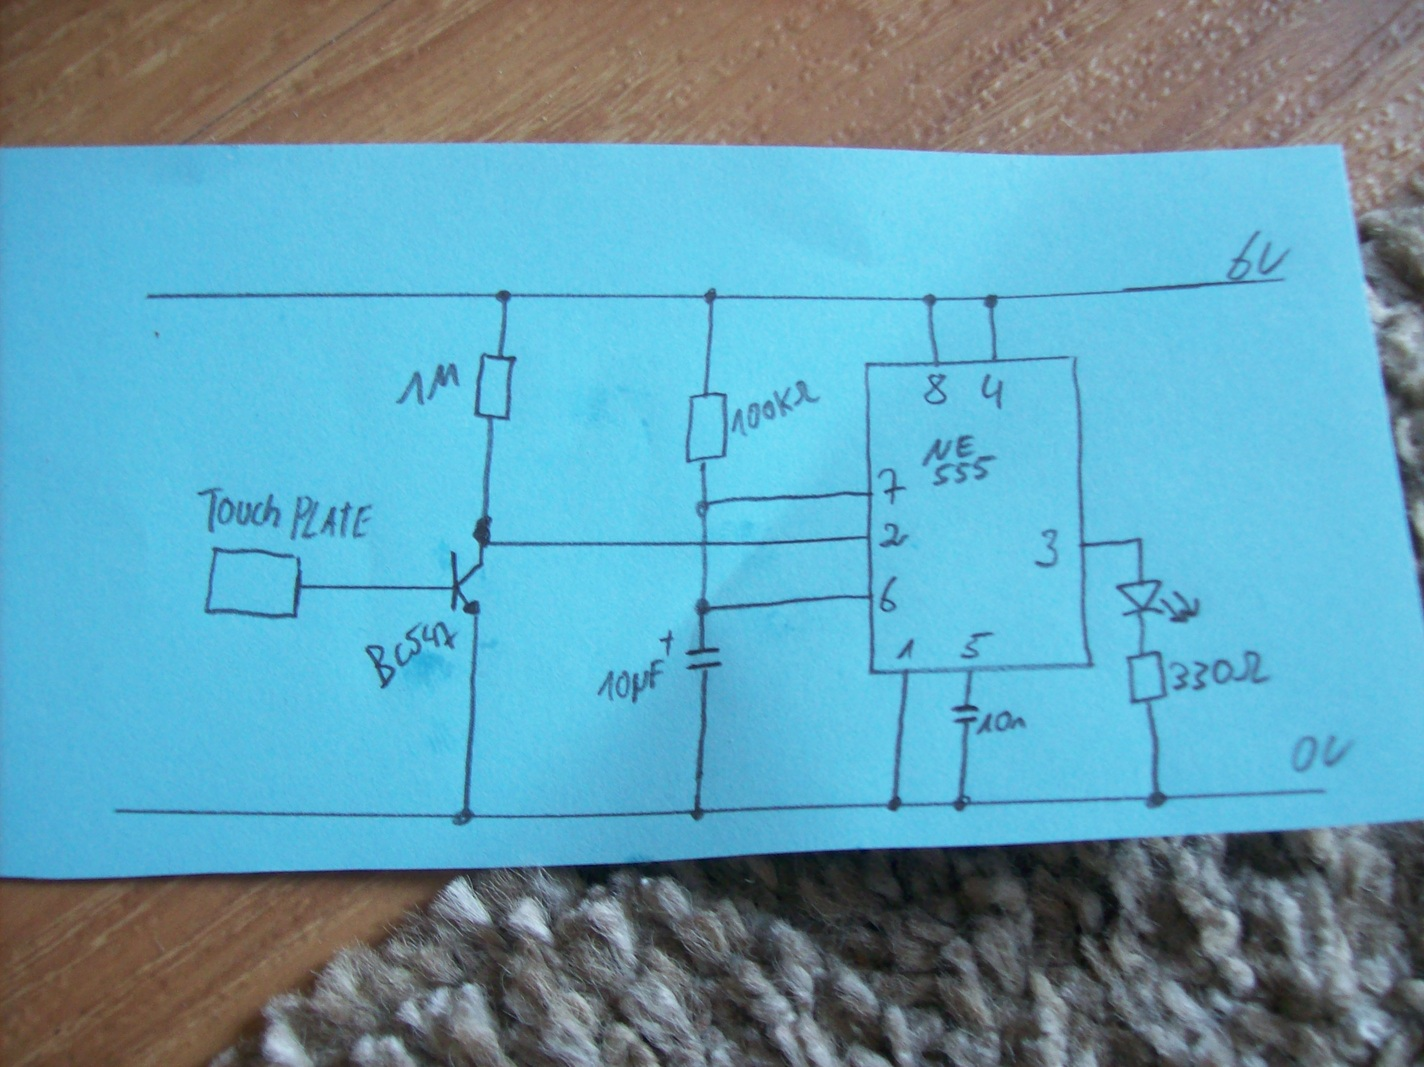capacitor.polarized: (658, 628, 725, 674)
capacitor.unpolarized: (951, 702, 981, 726)
crossover: (695, 533, 716, 551)
diode.light_emitting: (1113, 576, 1203, 627)
integrated_cricuit.ne555: (858, 349, 1102, 680)
junction: (471, 514, 497, 550), (1142, 787, 1170, 811), (450, 807, 476, 828), (951, 794, 974, 815), (694, 497, 714, 520), (692, 596, 713, 618), (702, 286, 722, 307), (920, 291, 940, 310), (494, 287, 513, 306), (885, 795, 904, 813), (687, 805, 706, 823), (981, 293, 1000, 310), (1133, 533, 1147, 547)
resistor: (682, 387, 730, 468), (471, 351, 519, 424), (1124, 647, 1169, 707)
terminal: (203, 544, 305, 622), (1307, 778, 1333, 802), (1273, 272, 1293, 288), (141, 289, 162, 304), (110, 805, 125, 815)
text: (195, 485, 374, 542), (363, 619, 457, 690), (730, 379, 823, 438), (1169, 648, 1272, 692), (919, 432, 998, 488), (1223, 226, 1293, 281), (595, 657, 666, 706), (395, 361, 463, 407), (1290, 733, 1355, 774), (1029, 528, 1063, 570), (976, 709, 1029, 736), (875, 464, 909, 505), (959, 630, 995, 661), (979, 371, 1006, 411), (877, 573, 902, 614), (921, 371, 949, 406), (877, 521, 910, 550), (896, 637, 918, 664)
transistor: (448, 550, 486, 619)
